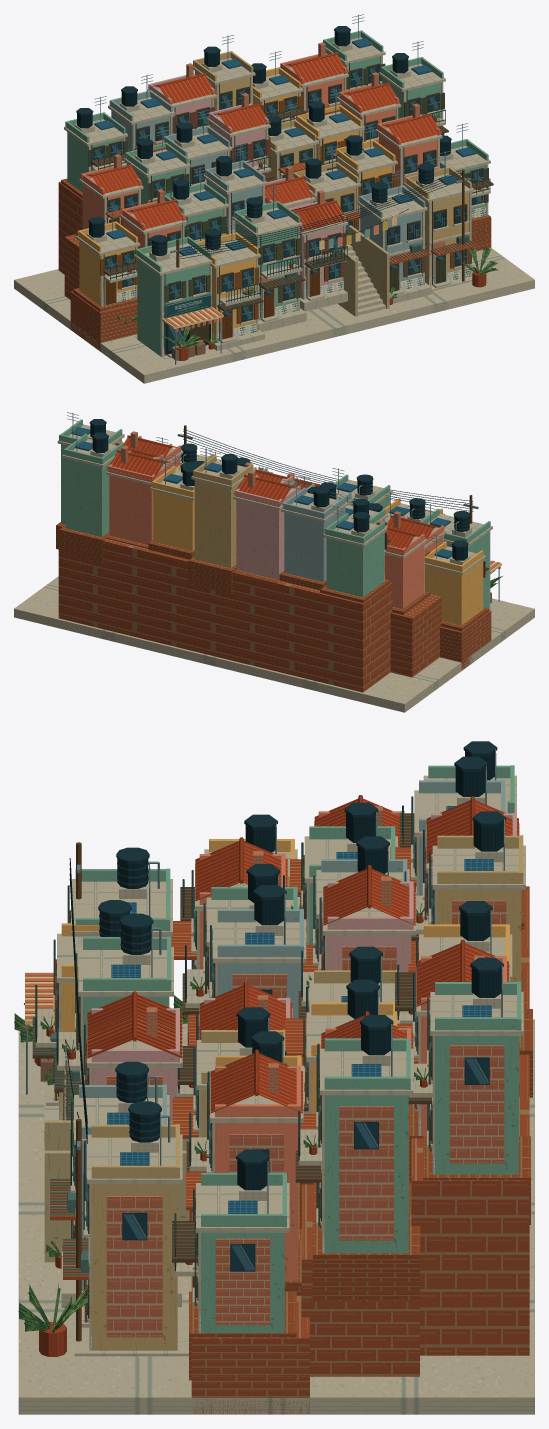
Rendered from hillside-lod0.glb.
The picture shows the model from 3 angles, top to bottom: view 1: azimuth 30°, elevation 25°; view 2: azimuth 150°, elevation 25°; view 3: azimuth 270°, elevation 25°; orthographic projection. The views are drawn at different scales.
Visible parts, largest first — view 1: hillside-lod0; view 2: hillside-lod0; view 3: hillside-lod0.
Part boxes in pixels (x1,y1,x2,y2): hillside-lod0: (14, 14, 534, 383); hillside-lod0: (14, 412, 534, 712); hillside-lod0: (14, 741, 534, 1414).
Bounding box in the file's own units: 20.84 × 10.59 × 12.11.
1 material, 1 textured.
